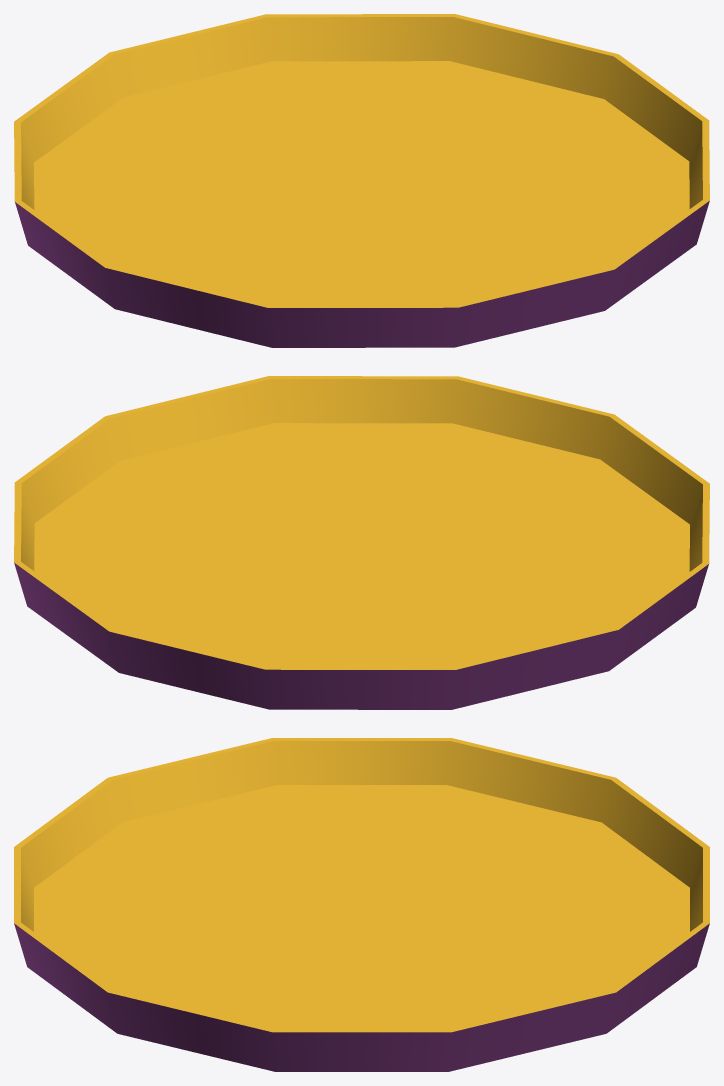
Rendered from Tray.fbx.
The picture shows the model from 3 angles, top to bottom: view 1: azimuth 30°, elevation 25°; view 2: azimuth 150°, elevation 25°; view 3: azimuth 270°, elevation 25°; orthographic projection.
Visible parts, largest first — view 1: Tray; view 2: Tray; view 3: Tray.
Boxes of the visible parts, left/top/right/bottom form: Tray: left=14, top=14, right=709, bottom=347; Tray: left=14, top=376, right=709, bottom=709; Tray: left=14, top=738, right=709, bottom=1071.
Bounding box in the file's own units: 36.01 × 2.59 × 36.01.
